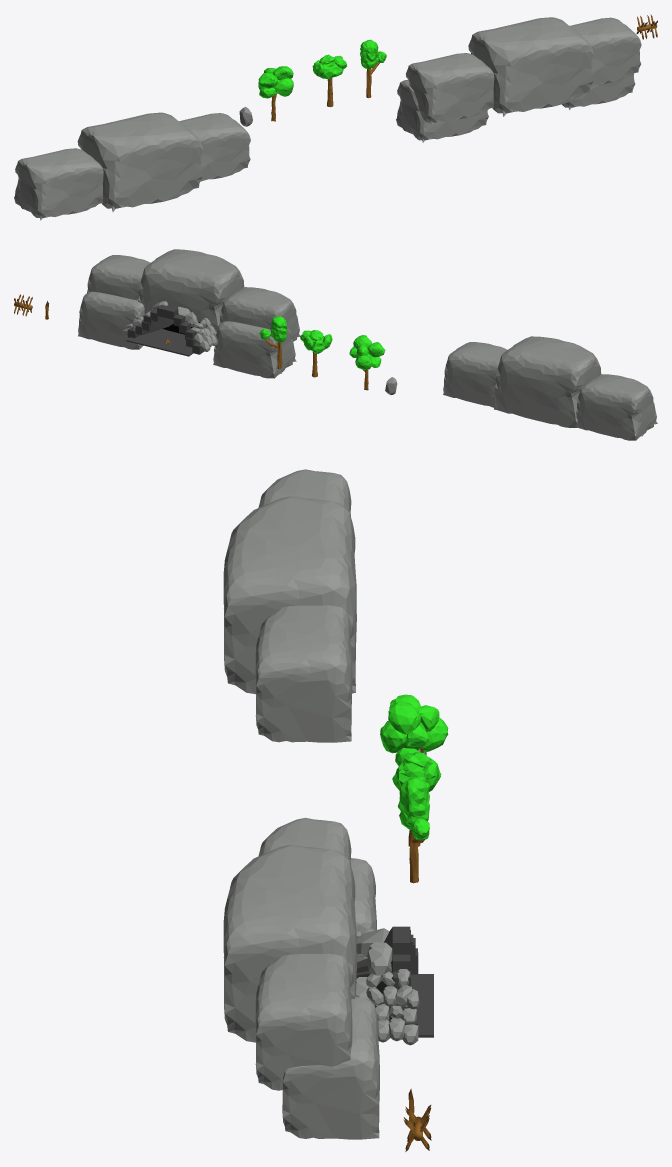
The model's file is StoneAge_Assets.fbx.
3 renders of one model, top to bottom at view 1: azimuth 30°, elevation 25°; view 2: azimuth 150°, elevation 25°; view 3: azimuth 270°, elevation 25°, orthographic. The views are drawn at different scales.
Visible parts, largest first — view 1: Cave, Mount_rocks, Tree_3, Tree 2, tree 1; view 2: Cave, Mount_rocks, Tree_3, Tree 2, tree 1; view 3: Cave, Mount_rocks, Tree_3, tree 1, Tree 2.
Boxes of the visible parts, left/top/right/bottom form: Cave: left=396, top=17, right=641, bottom=142; Mount_rocks: left=14, top=112, right=250, bottom=220; Tree_3: left=258, top=66, right=293, bottom=121; Tree 2: left=312, top=54, right=346, bottom=107; tree 1: left=360, top=39, right=386, bottom=98; Cave: left=78, top=249, right=300, bottom=378; Mount_rocks: left=443, top=336, right=657, bottom=440; Tree_3: left=349, top=335, right=385, bottom=390; Tree 2: left=300, top=330, right=332, bottom=377; tree 1: left=259, top=316, right=287, bottom=368; Cave: left=223, top=817, right=433, bottom=1139; Mount_rocks: left=223, top=469, right=356, bottom=742; Tree_3: left=380, top=694, right=448, bottom=753; tree 1: left=398, top=778, right=429, bottom=883; Tree 2: left=392, top=748, right=441, bottom=846.
Size of the model in its own units: 6395 by 829 by 1030.
